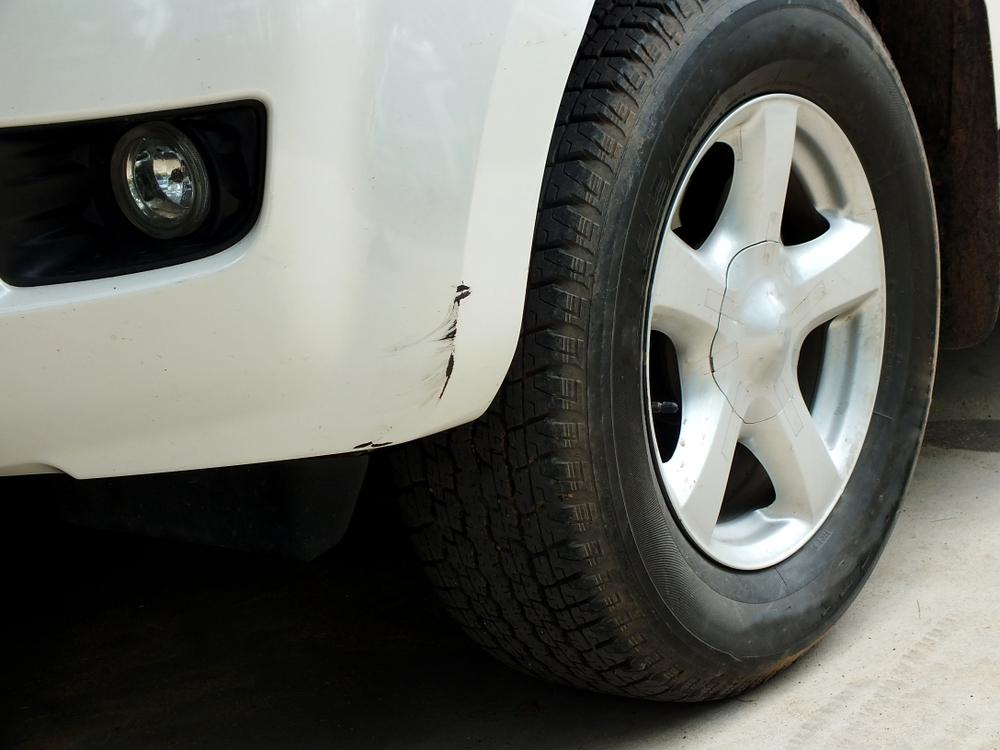scratch: (386, 283, 472, 400)
